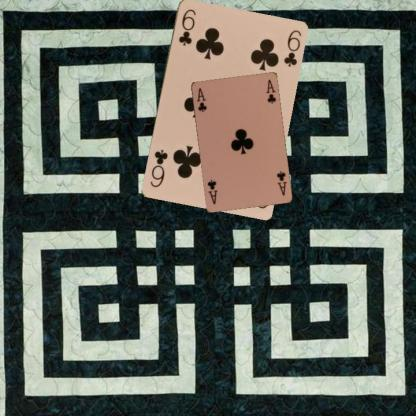6c: (176, 6, 198, 47)
Ac: (194, 84, 208, 113), (274, 168, 288, 197)
